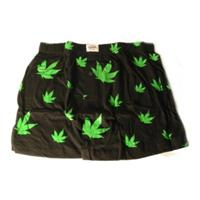mutande: (10, 41, 188, 159)
